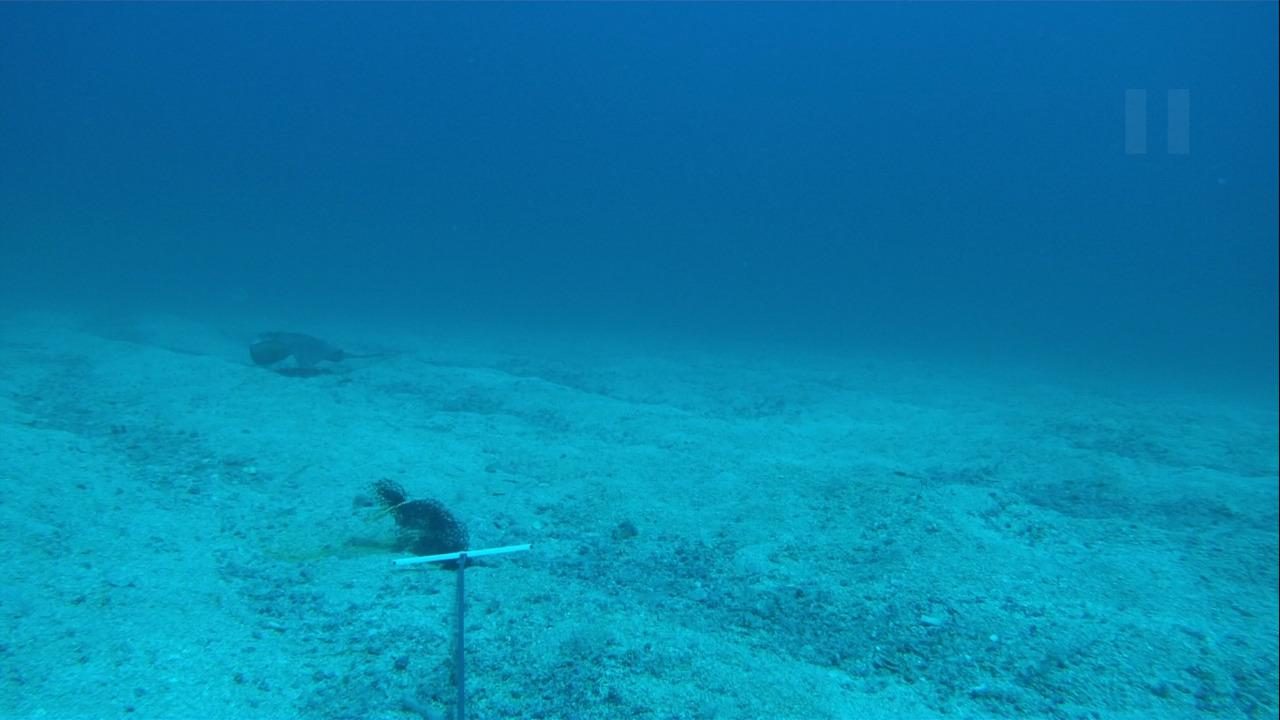myliobatis: (240, 326, 396, 378)
